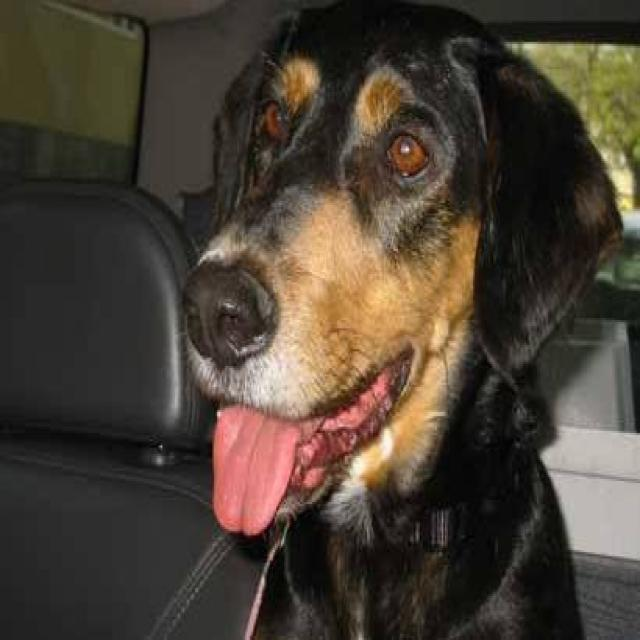happy: (123, 7, 616, 558)
